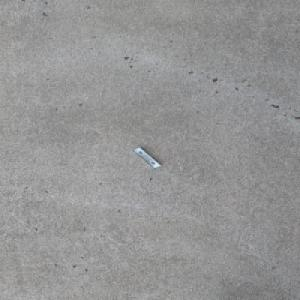ClampPart: (131, 147, 161, 168)
